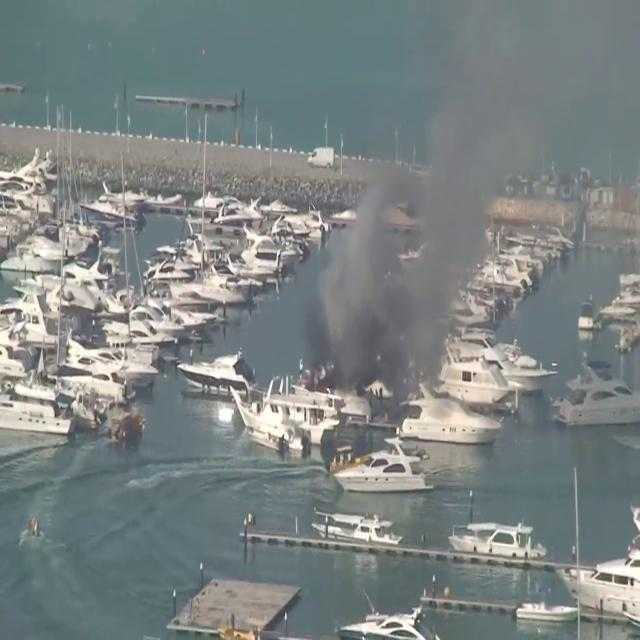Smoke: (299, 1, 639, 392)
